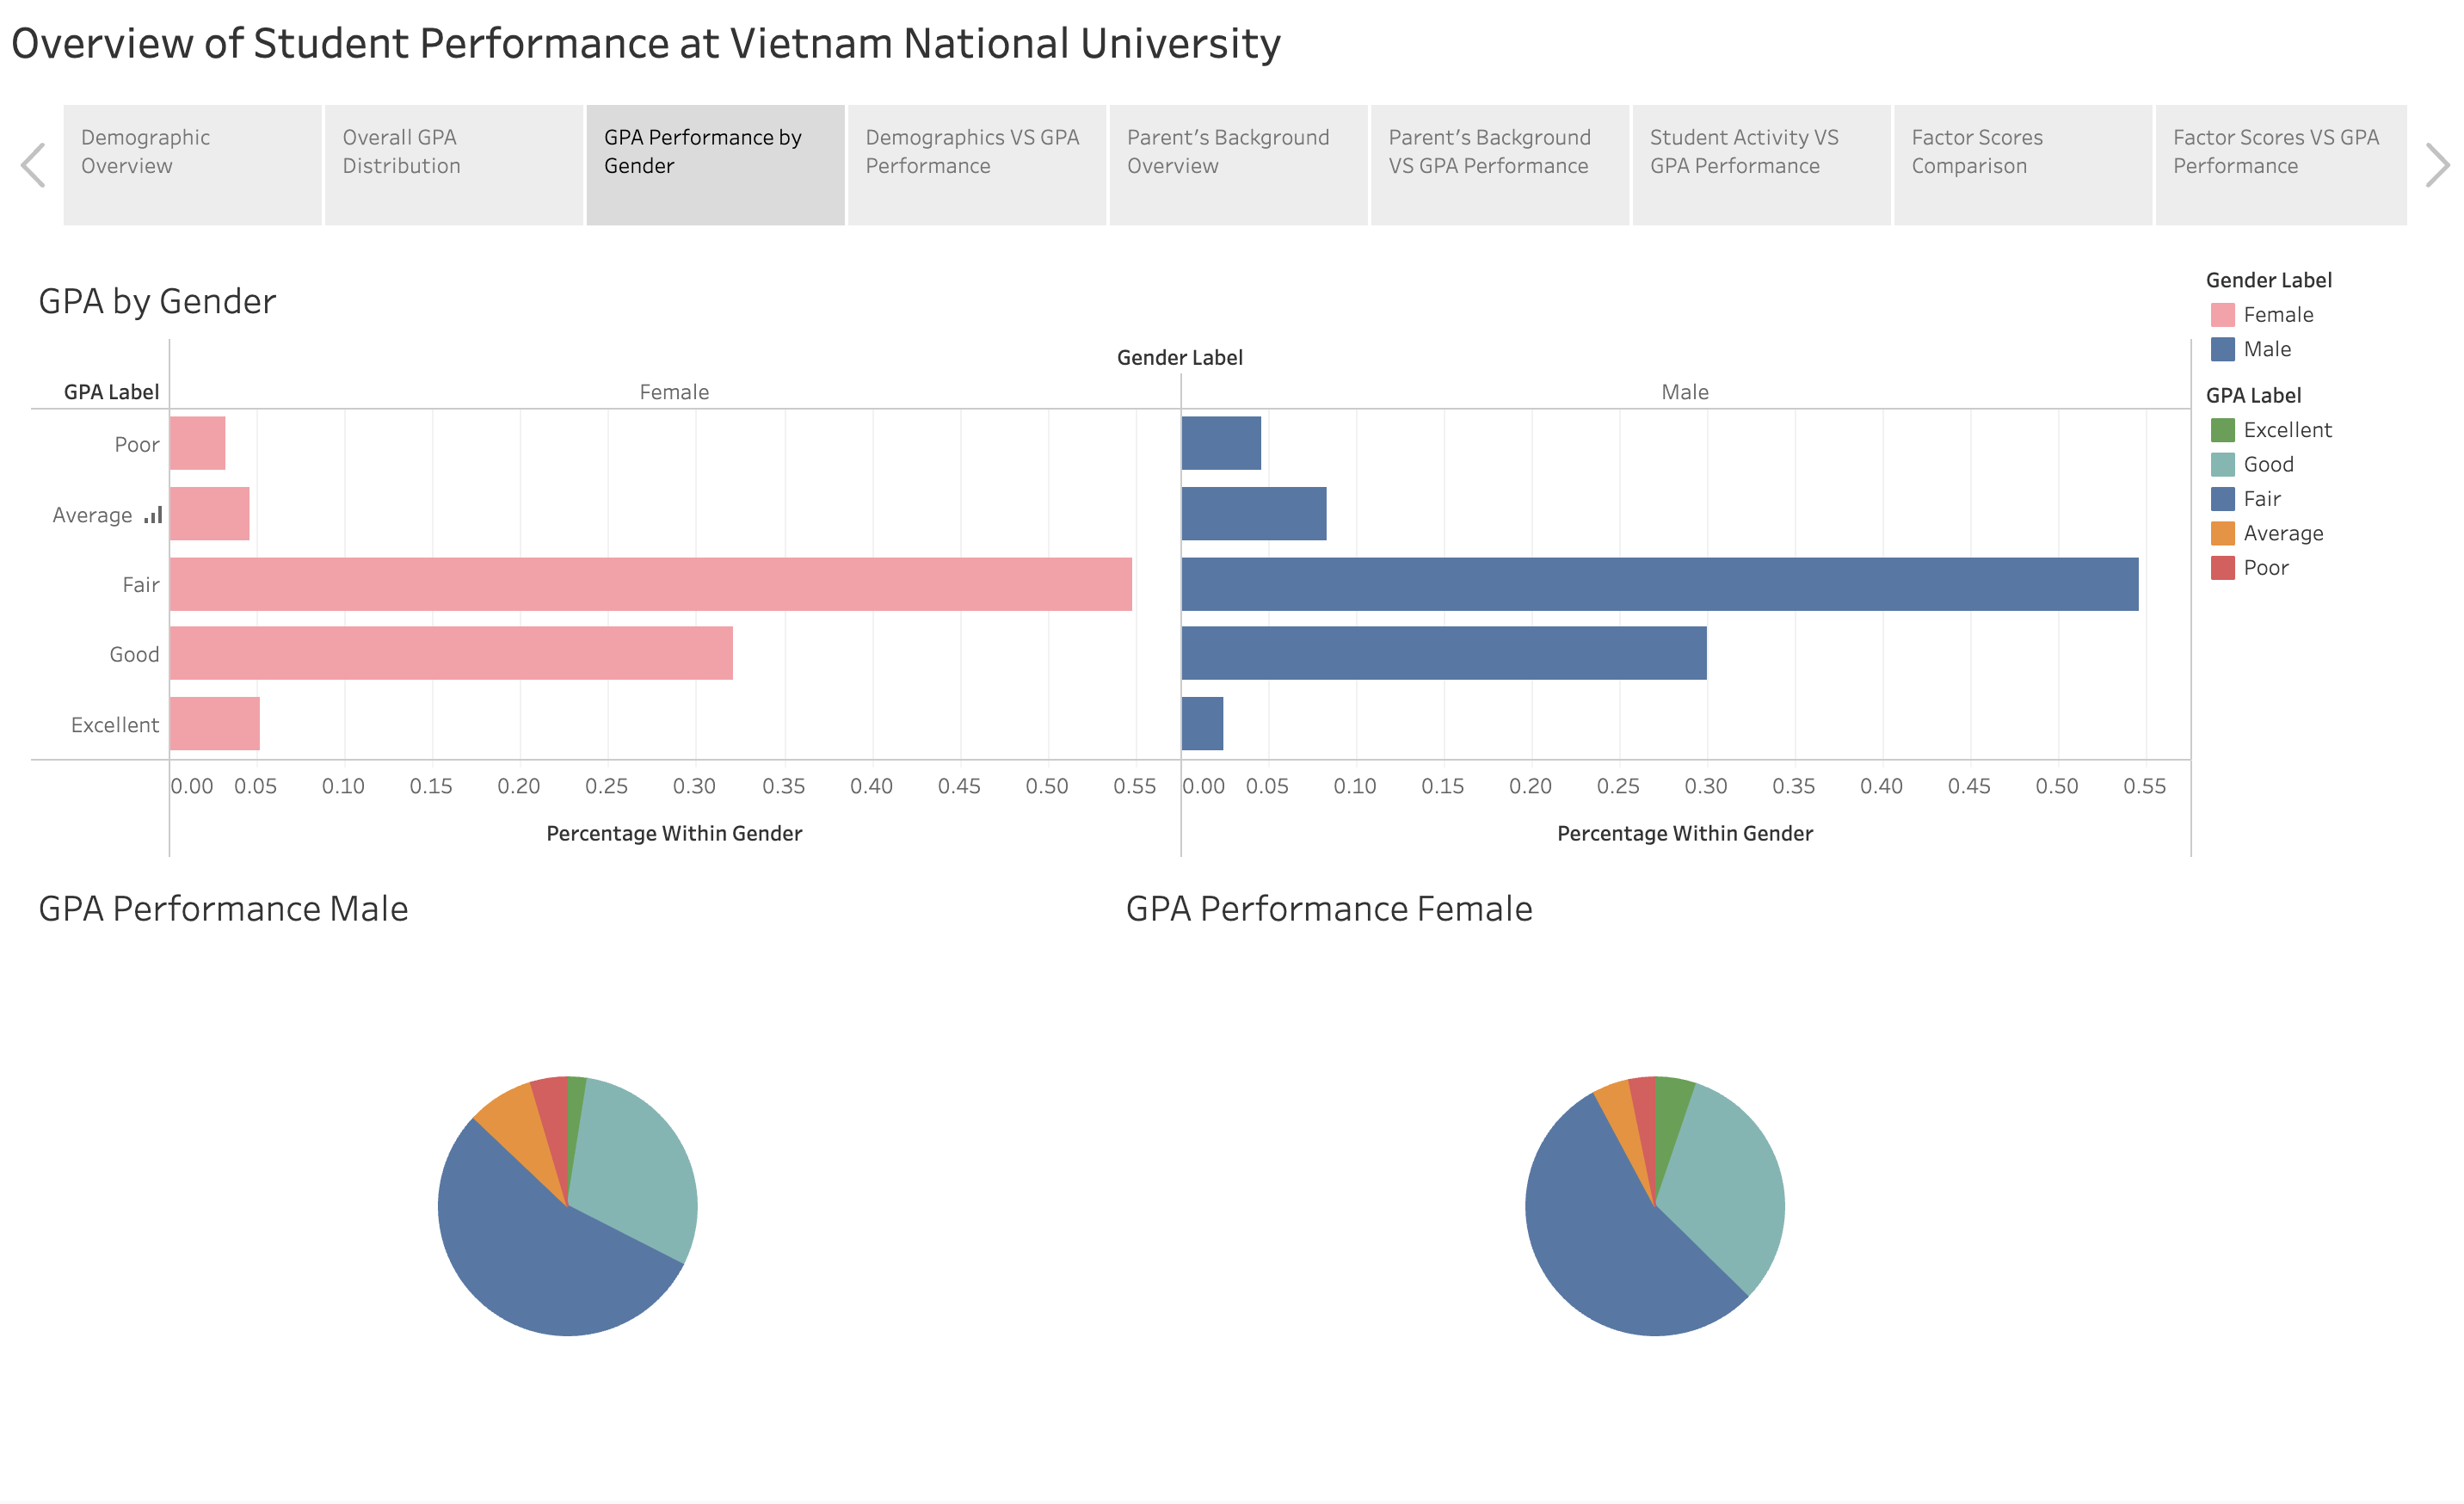

What the dashboard file says about the page in this screenshot:
{"tool":"tableau","page":{"name":"GPA Performance By Gender","canvas":[1000,1000],"units":"permille","ordinal":4},"visuals":[{"type":"worksheet","title":"GPA Performance Gender","mark":"Automatic","rows":["Calculation_0564434691989520"],"cols":["Calculation_0564434596544513","Calculation_0564434697056273"],"box":[5.7,11.5,886.8,488.5]},{"type":"legend","title":"GPA Performance Gender","param":"[federated.05jevnn1tfsfa413nsuds1rxwbeq].[none:Calculation_0564434596544513:nk]","box":[892.5,11.5,101.8,94.7]},{"type":"legend","title":"GPA Performance Male","param":"[federated.05jevnn1tfsfa413nsuds1rxwbeq].[none:Calculation_0564434691989520:nk]","box":[892.5,106.2,101.8,180.8]},{"type":"worksheet","title":"GPA Performance Male","mark":"Pie","box":[5.7,500,443.4,488.5]},{"type":"worksheet","title":"GPA Performance Female","mark":"Pie","box":[449.1,500,443.4,488.5]}]}

Visuals, with their boxes on the dashboard's canvas, which has no fixed pixel size, in thousandths of its width and height (x1, y1, x2, y2). These are canvas units, not pixel positions in the 2464x1504 screenshot, which may show the page scaled, cropped or inside an application window:
"GPA Performance Gender" worksheet: crop(6, 12, 892, 500)
"GPA Performance Gender" legend: crop(892, 12, 994, 106)
"GPA Performance Male" legend: crop(892, 106, 994, 287)
"GPA Performance Male" worksheet (Pie marks): crop(6, 500, 449, 988)
"GPA Performance Female" worksheet (Pie marks): crop(449, 500, 892, 988)
